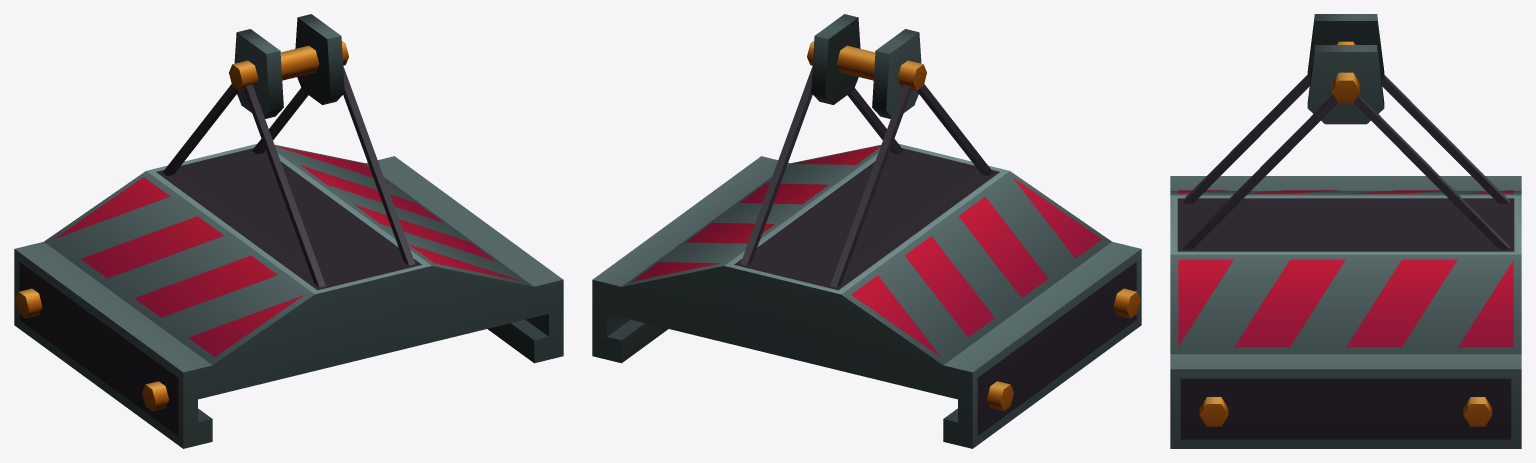
The model's file is Container_Latch_1A.fbx.
3 views of the same model, side by side, from view 1: azimuth 30°, elevation 25°; view 2: azimuth 150°, elevation 25°; view 3: azimuth 270°, elevation 25° (orthographic). The views are drawn at different scales.
Parts seen in each view (by area): view 1: Container_Latch_1A; view 2: Container_Latch_1A; view 3: Container_Latch_1A.
Part boxes in pixels (bbox=[...]): Container_Latch_1A: bbox=[14, 14, 563, 448]; Container_Latch_1A: bbox=[592, 14, 1141, 448]; Container_Latch_1A: bbox=[1170, 14, 1521, 448].
Size of the model in its own units: 2.78 by 2 by 2.
